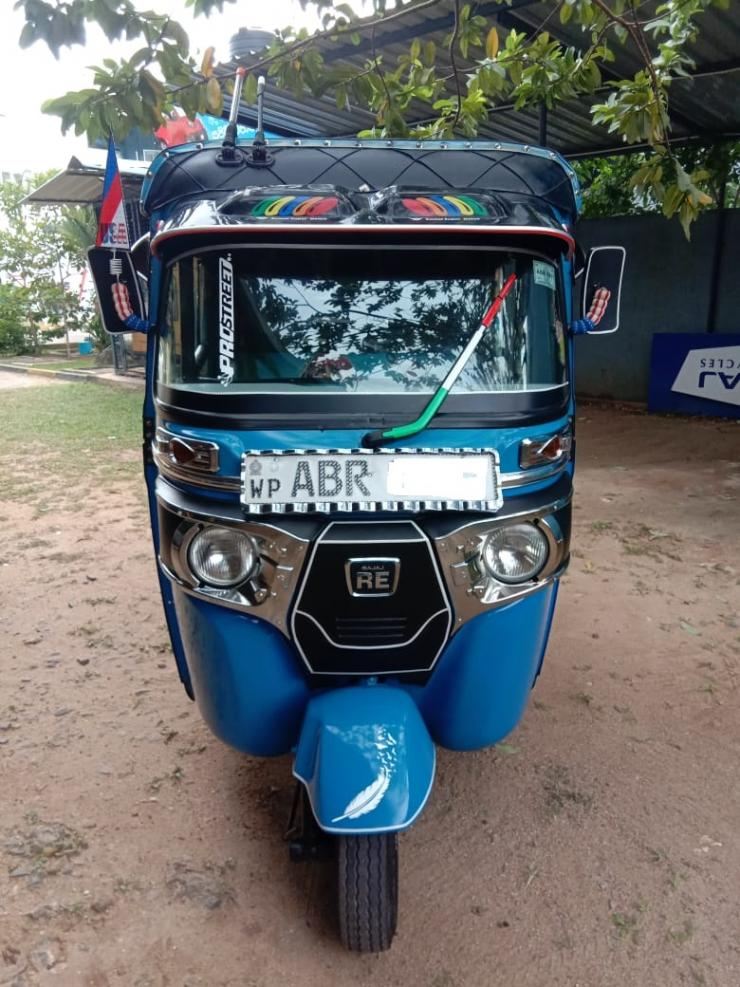threewheel: (88, 136, 626, 954)
